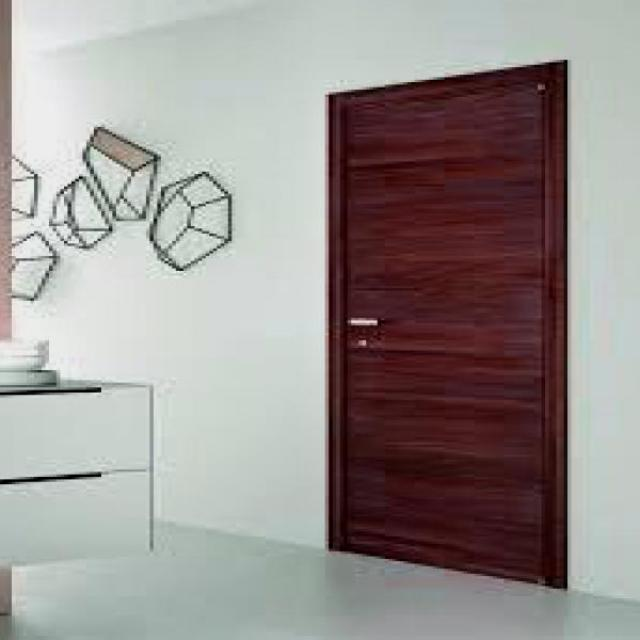door: (326, 59, 568, 587)
